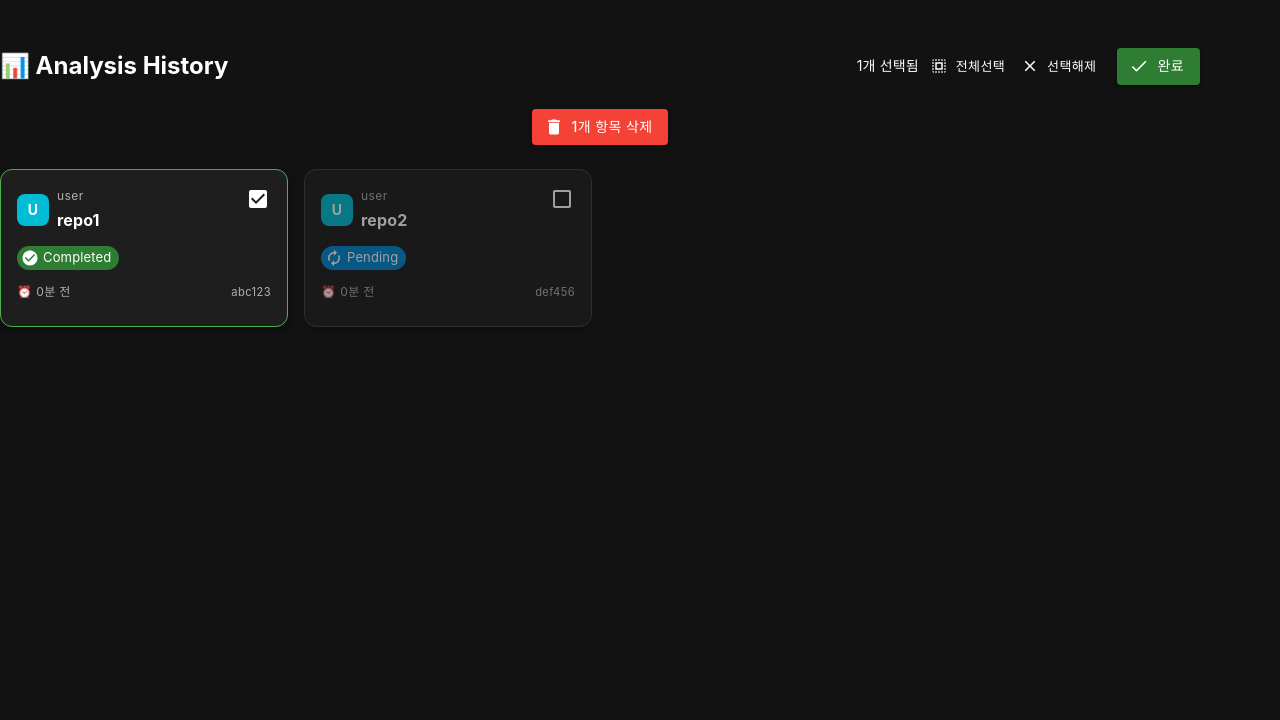
Test case: HistoryList Delete Functionality › opens delete dialog when delete button is clicked
Click the button "1개 항목 삭제" at (600, 127), box [532,108,668,145]
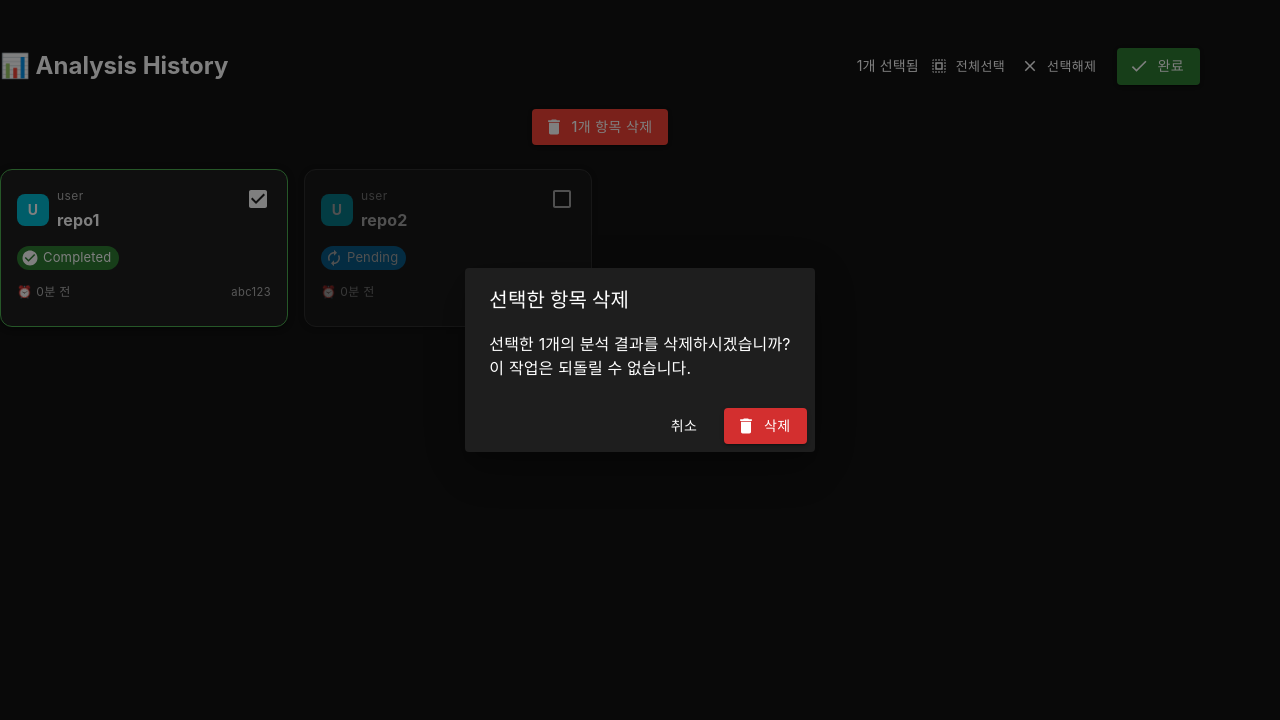
Expected: the heading "선택한 항목 삭제" is shown, [489,288,629,312]
Expected: the text "선택한 1개의 분석 결과를 삭제하시겠습니까?이 작업은 되돌릴 수 없습니다." is shown, [489,332,791,380]
